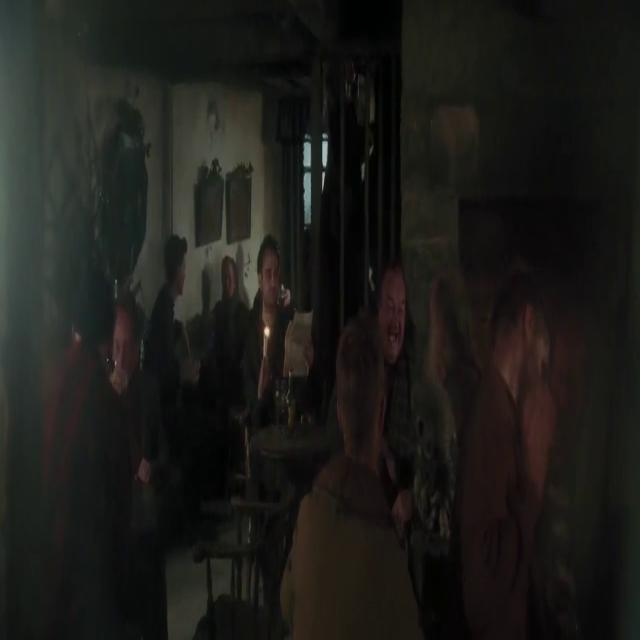Bottle: (280, 360, 298, 425)
Cup: (273, 376, 287, 426)
People: (473, 253, 555, 593), (44, 266, 124, 551), (311, 328, 394, 589), (153, 229, 203, 484), (107, 293, 162, 514), (369, 254, 430, 437), (249, 228, 302, 382), (420, 263, 475, 411), (212, 251, 247, 408)
